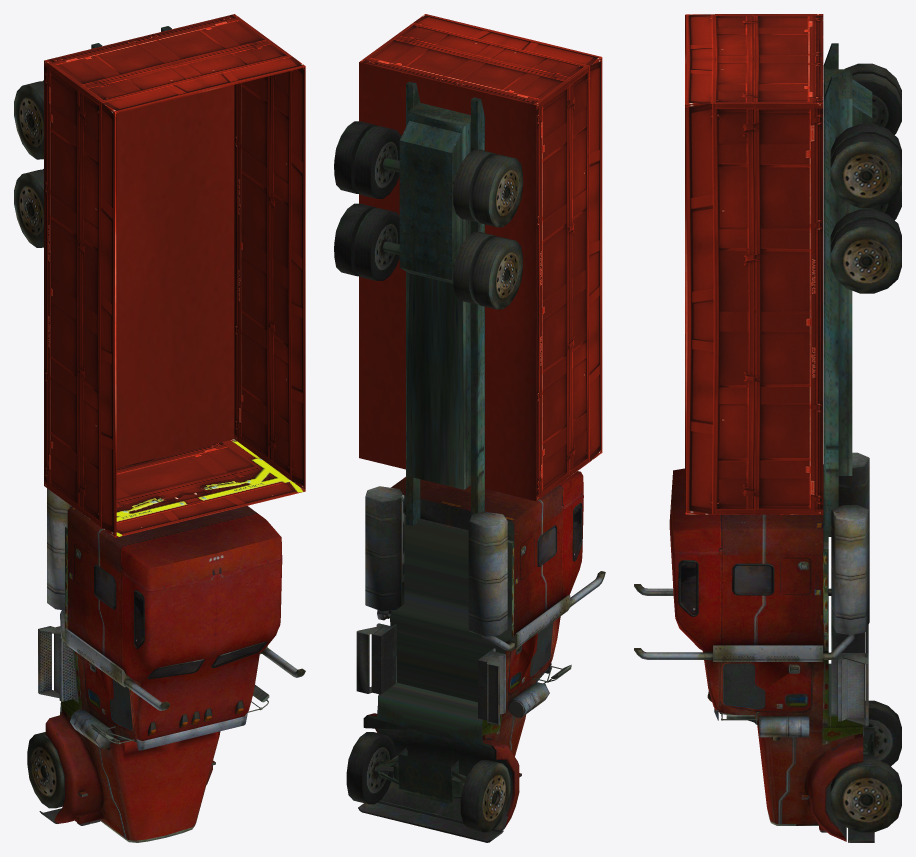
3 views of the same model, side by side, from view 1: azimuth 30°, elevation 25°; view 2: azimuth 150°, elevation 25°; view 3: azimuth 270°, elevation 25° (orthographic). The views are drawn at different scales.
Parts seen in each view (by area): view 1: italeri truck, R1_smdimportmtl_0, R 3_smdimportmtl_0, R 2_smdimportmtl_0; view 2: italeri truck, R 3_smdimportmtl_0, R 2_smdimportmtl_0, L2_smdimportmtl_0, L3_smdimportmtl_0, R1_smdimportmtl_0, L1_smdimportmtl_0; view 3: italeri truck, L2_smdimportmtl_0, L3_smdimportmtl_0, L1_smdimportmtl_0, R 3_smdimportmtl_0, R1_smdimportmtl_0.
Part boxes in pixels (left/top/right/bottom): italeri truck: left=38, top=14, right=305, bottom=842; R1_smdimportmtl_0: left=27, top=732, right=64, bottom=808; R 3_smdimportmtl_0: left=14, top=80, right=43, bottom=159; R 2_smdimportmtl_0: left=14, top=169, right=43, bottom=247; italeri truck: left=356, top=14, right=605, bottom=842; R 3_smdimportmtl_0: left=453, top=149, right=523, bottom=227; R 2_smdimportmtl_0: left=453, top=232, right=523, bottom=309; L2_smdimportmtl_0: left=334, top=203, right=399, bottom=280; L3_smdimportmtl_0: left=334, top=121, right=401, bottom=198; R1_smdimportmtl_0: left=460, top=760, right=510, bottom=832; L1_smdimportmtl_0: left=346, top=732, right=395, bottom=804; italeri truck: left=634, top=14, right=874, bottom=842; L2_smdimportmtl_0: left=830, top=209, right=901, bottom=293; L3_smdimportmtl_0: left=830, top=124, right=901, bottom=208; L1_smdimportmtl_0: left=830, top=758, right=901, bottom=832; R 3_smdimportmtl_0: left=844, top=63, right=901, bottom=134; R1_smdimportmtl_0: left=863, top=700, right=901, bottom=765.
Bounding box in the file's own units: 127 × 498 × 160.
Materials: 1 (1 with a texture image).
